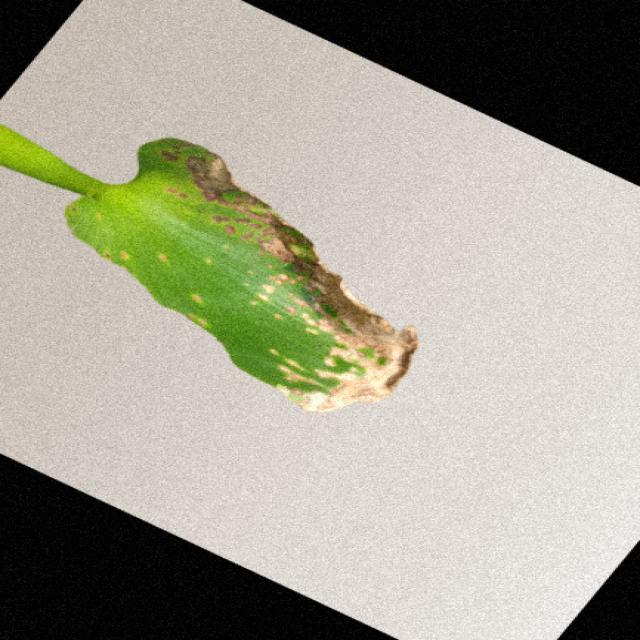daun berpenyakit bercak: (0, 126, 418, 412)
